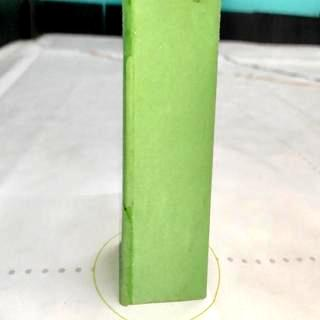greenbox: (122, 0, 208, 301)
